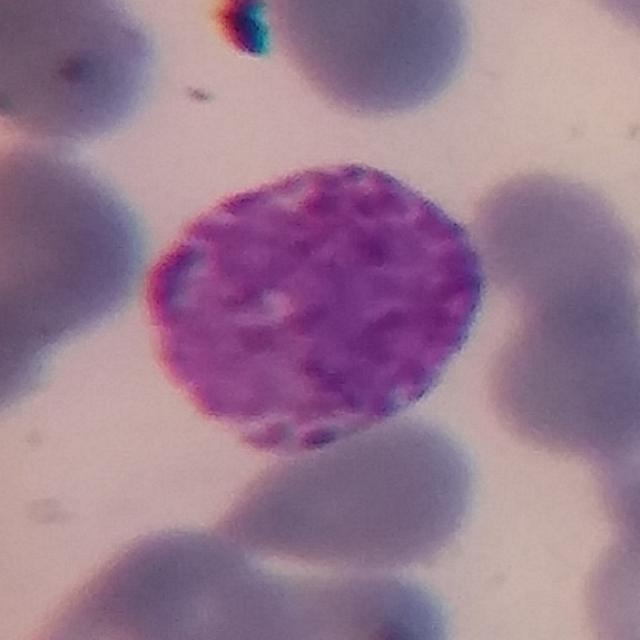baso: (137, 154, 497, 468)
